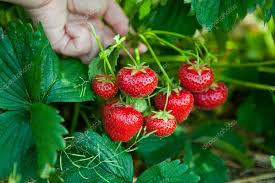ripe: (100, 101, 142, 154), (156, 83, 198, 127), (121, 55, 161, 101), (171, 56, 217, 91), (196, 79, 229, 114), (87, 66, 122, 99), (143, 109, 176, 140)
